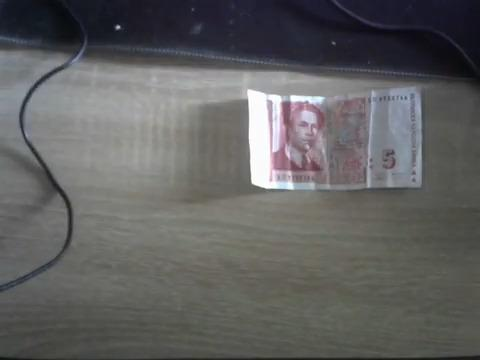5leva: (364, 87, 425, 190), (283, 102, 328, 183)
